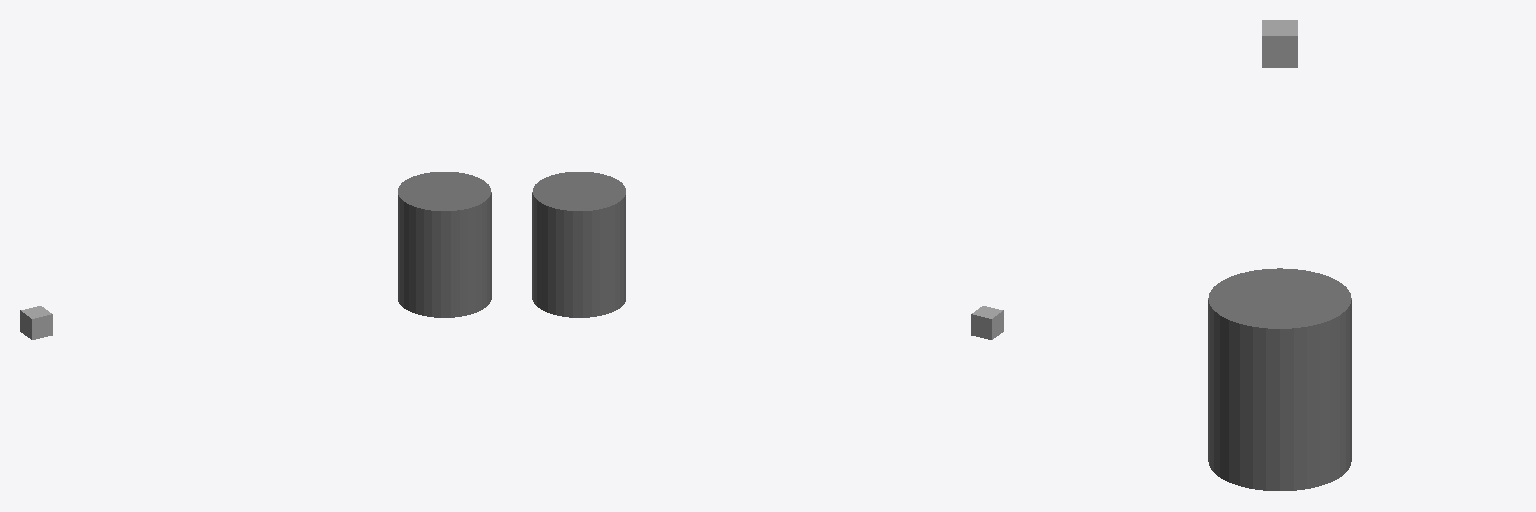
The robot description file, URDF, robot "orca4_ign":
<?xml version='1.0'?>
<robot name="orca4_ign" xmlns:xacro="http://ros.org/wiki/xacro">
    <origin xyz="0 0 0" rpy="0 0 0"/>

    <!-- BlueROV2 thruster reference: http://www.ardusub.com/introduction/features.html -->
    <!-- fluid_density: 1000 -->
    <!-- displaced_mass: 10.05 -->

    <link name="base_link">
      <inertial>
        <origin xyz="0 0 0.011" rpy="0 0 0"/>
        <mass value="10.036"/>
        <inertia ixx="0.09873097998042396" ixy="0.0" ixz="0.0" iyy="0.17756847998042397" iyz="0.0" izz="0.2692441666666667"/>
      </inertial>

      <visual name="base_link_visual">
        <geometry>
          <!-- FIXED: Correct mesh path -->
          <mesh filename="package://auv_core/meshes/bluerov2.dae" scale="0.025 0.025 0.025"/>
        </geometry>
      </visual>

      <!-- Collision volume * fluid_density == displaced mass, used by BuoyancyPlugin -->
      <collision name="base_link_collision">
        <origin xyz="0 0 0.06" rpy="0 0 0"/>
        <geometry>
          <box size="0.457 0.338 0.06506286173008947"/>
        </geometry>
      </collision>

    </link>

    <!-- Hydrodynamics plugin -->
    <gazebo>
    <plugin
        filename="ignition-gazebo-hydrodynamics-system"
        name="ignition::gazebo::systems::Hydrodynamics">
      <link_name>base_link</link_name>
      <water_density>1000</water_density>
      <!-- Added mass: -->
      <xDotU>0</xDotU>
      <yDotV>0</yDotV>
      <zDotW>0</zDotW>
      <kDotP>0</kDotP>
      <mDotQ>0</mDotQ>
      <nDotR>0</nDotR>
      <!-- First order stability derivative: -->
      <xU>0</xU>
      <yV>0</yV>
      <zW>0</zW>
      <kP>0</kP>
      <mQ>0</mQ>
      <nR>0</nR>
      <!-- Second order stability derivative: -->
      <xUabsU>-33.800000000000004</xUabsU>
      <yVabsV>-54.26875</yVabsV>
      <zWabsW>-73.37135</zWabsW>
      <kPabsP>-4.0</kPabsP>
      <mQabsQ>-4.0</mQabsQ>
      <nRabsR>-4.0</nRabsR>
    </plugin>
    </gazebo>

    <!-- ========== THRUSTER LINKS ========== -->
    <link name="thruster1">
      <visual name="thruster_prop_visual">
        <origin xyz="0 0 0" rpy="1.5707963267948966 0 0"/>
        <geometry>
          <mesh filename="package://auv_core/meshes/t200-cw-prop.dae"/>
        </geometry>
      </visual>
      <inertial>
        <mass value="0.002"/>
        <inertia ixx="0.001" ixy="0.0" ixz="0.0" iyy="0.001" iyz="0.0" izz="0.001" />
      </inertial>
    </link>

    <link name="thruster2">
      <visual name="thruster_prop_visual">
        <origin xyz="0 0 0" rpy="1.5707963267948966 0 0"/>
        <geometry>
          <mesh filename="package://auv_core/meshes/t200-ccw-prop.dae"/>
        </geometry>
      </visual>
      <inertial>
        <mass value="0.002"/>
        <inertia ixx="0.001" ixy="0.0" ixz="0.0" iyy="0.001" iyz="0.0" izz="0.001" />
      </inertial>
    </link>

    <link name="thruster3">
      <visual name="thruster_prop_visual">
        <origin xyz="0 0 0" rpy="-1.5707963267948966 0 0"/>
        <geometry>
          <mesh filename="package://auv_core/meshes/t200-ccw-prop.dae"/>
        </geometry>
      </visual>
      <inertial>
        <mass value="0.002"/>
        <inertia ixx="0.001" ixy="0.0" ixz="0.0" iyy="0.001" iyz="0.0" izz="0.001" />
      </inertial>
    </link>

    <link name="thruster4">
      <visual name="thruster_prop_visual">
        <origin xyz="0 0 0" rpy="1.5707963267948966 0 0"/>
        <geometry>
          <mesh filename="package://auv_core/meshes/t200-cw-prop.dae"/>
        </geometry>
      </visual>
      <inertial>
        <mass value="0.002"/>
        <inertia ixx="0.001" ixy="0.0" ixz="0.0" iyy="0.001" iyz="0.0" izz="0.001" />
      </inertial>
    </link>

    <link name="thruster5">
      <visual name="thruster_prop_visual">
        <origin xyz="0 0 0" rpy="-1.5707963267948966 0 1.5707963267948966"/>
        <geometry>
          <mesh filename="package://auv_core/meshes/t200-ccw-prop.dae"/>
        </geometry>
      </visual>
      <inertial>
        <mass value="0.002"/>
        <inertia ixx="0.001" ixy="0.0" ixz="0.0" iyy="0.001" iyz="0.0" izz="0.001" />
      </inertial>
    </link>

    <link name="thruster6">
      <visual name="thruster_prop_visual">
        <origin xyz="0 0 0" rpy="1.5707963267948966 0 1.5707963267948966"/>
        <geometry>
          <mesh filename="package://auv_core/meshes/t200-cw-prop.dae"/>
        </geometry>
      </visual>
      <inertial>
        <mass value="0.002"/>
        <inertia ixx="0.001" ixy="0.0" ixz="0.0" iyy="0.001" iyz="0.0" izz="0.001" />
      </inertial>
    </link>

    <!-- ========== THRUSTER JOINTS ========== -->
    <joint name="thruster1_joint" type="revolute">
      <parent link="base_link" />
      <child link="thruster1" />
      <origin xyz="0.14 -0.092 0" rpy="-1.5707963267948966 1.5707963267948966 -0.7853981633974483"/>
      <axis xyz="0 0 -1" />
      <limit lower="-1e+12" upper="1e+12" effort="-1" velocity="-1"/>
    </joint>

    <joint name="thruster2_joint" type="revolute">
      <parent link="base_link" />
      <child link="thruster2" />
      <origin xyz="0.14 0.092 0" rpy="-1.5707963267948966 1.5707963267948966 -2.356194490192345"/>
      <axis xyz="0 0 -1" />
      <limit lower="-1e+12" upper="1e+12" effort="-1" velocity="-1"/>
    </joint>

    <joint name="thruster3_joint" type="revolute">
      <parent link="base_link" />
      <child link="thruster3" />
      <origin xyz="-0.14 -0.092 0" rpy="-1.5707963267948966 1.5707963267948966 0.7853981633974483"/>
      <axis xyz="0 0 -1" />
      <limit lower="-1e+12" upper="1e+12" effort="-1" velocity="-1"/>
    </joint>

    <joint name="thruster4_joint" type="revolute">
      <parent link="base_link" />
      <child link="thruster4" />
      <origin xyz="-0.14 0.092 0" rpy="-1.5707963267948966 1.5707963267948966 2.356194490192345"/>
      <axis xyz="0 0 -1" />
      <limit lower="-1e+12" upper="1e+12" effort="-1" velocity="-1"/>
    </joint>

    <joint name="thruster5_joint" type="revolute">
      <parent link="base_link" />
      <child link="thruster5" />
      <origin xyz="0 -0.109 0.077" rpy="0 0 0"/>
      <axis xyz="0 0 -1" />
      <limit lower="-1e+12" upper="1e+12" effort="-1" velocity="-1"/>
    </joint>

    <joint name="thruster6_joint" type="revolute">
      <parent link="base_link" />
      <child link="thruster6" />
      <origin xyz="0 0.109 0.077" rpy="0 0 0"/>
      <axis xyz="0 0 -1" />
      <limit lower="-1e+12" upper="1e+12" effort="-1" velocity="-1"/>
    </joint>

    <!-- ========== THRUSTER PLUGINS (FIXED) ========== -->
    <gazebo>
    <plugin
        filename="ignition-gazebo-thruster-system"
        name="ignition::gazebo::systems::Thruster">
      <namespace>orca4_ign</namespace>
      <joint_name>thruster1_joint</joint_name>
      <thrust_coefficient>0.2</thrust_coefficient>
      <topic>/model/orca4_ign/joint/thruster1_joint/cmd_vel</topic>
      <fluid_density>1000</fluid_density>
      <propeller_diameter>0.1</propeller_diameter>
      <velocity_control>true</velocity_control>
      <use_angvel_cmd>true</use_angvel_cmd>
      <max_thrust_cmd>300</max_thrust_cmd>
      <min_thrust_cmd>-300</min_thrust_cmd>
    </plugin>
    </gazebo>

    <gazebo>
    <plugin
        filename="ignition-gazebo-thruster-system"
        name="ignition::gazebo::systems::Thruster">
      <namespace>orca4_ign</namespace>
      <joint_name>thruster2_joint</joint_name>
      <thrust_coefficient>0.2</thrust_coefficient>
      <topic>/model/orca4_ign/joint/thruster2_joint/cmd_vel</topic>
      <fluid_density>1000</fluid_density>
      <propeller_diameter>0.1</propeller_diameter>
      <velocity_control>true</velocity_control>
      <use_angvel_cmd>true</use_angvel_cmd>
      <max_thrust_cmd>300</max_thrust_cmd>
      <min_thrust_cmd>-300</min_thrust_cmd>
    </plugin>
    </gazebo>

    <gazebo>
    <plugin
        filename="ignition-gazebo-thruster-system"
        name="ignition::gazebo::systems::Thruster">
      <namespace>orca4_ign</namespace>
      <joint_name>thruster3_joint</joint_name>
      <thrust_coefficient>-0.2</thrust_coefficient>
      <topic>/model/orca4_ign/joint/thruster3_joint/cmd_vel</topic>
      <fluid_density>1000</fluid_density>
      <propeller_diameter>0.1</propeller_diameter>
      <velocity_control>true</velocity_control>
      <use_angvel_cmd>true</use_angvel_cmd>
      <max_thrust_cmd>300</max_thrust_cmd>
      <min_thrust_cmd>-300</min_thrust_cmd>
    </plugin>
    </gazebo>

    <gazebo>
    <plugin
        filename="ignition-gazebo-thruster-system"
        name="ignition::gazebo::systems::Thruster">
      <namespace>orca4_ign</namespace>
      <joint_name>thruster4_joint</joint_name>
      <thrust_coefficient>-0.2</thrust_coefficient>
      <topic>/model/orca4_ign/joint/thruster4_joint/cmd_vel</topic>
      <fluid_density>1000</fluid_density>
      <propeller_diameter>0.1</propeller_diameter>
      <velocity_control>true</velocity_control>
      <use_angvel_cmd>true</use_angvel_cmd>
      <max_thrust_cmd>300</max_thrust_cmd>
      <min_thrust_cmd>-300</min_thrust_cmd>
    </plugin>
    </gazebo>

    <gazebo>
    <plugin
        filename="ignition-gazebo-thruster-system"
        name="ignition::gazebo::systems::Thruster">
      <namespace>orca4_ign</namespace>
      <joint_name>thruster5_joint</joint_name>
      <thrust_coefficient>0.3</thrust_coefficient>
      <topic>/model/orca4_ign/joint/thruster5_joint/cmd_vel</topic>
      <fluid_density>1000</fluid_density>
      <propeller_diameter>0.1</propeller_diameter>
      <velocity_control>true</velocity_control>
      <use_angvel_cmd>true</use_angvel_cmd>
      <max_thrust_cmd>300</max_thrust_cmd>
      <min_thrust_cmd>-300</min_thrust_cmd>
    </plugin>
    </gazebo>

    <gazebo>
    <plugin
        filename="ignition-gazebo-thruster-system"
        name="ignition::gazebo::systems::Thruster">
      <namespace>orca4_ign</namespace>
      <joint_name>thruster6_joint</joint_name>
      <thrust_coefficient>0.3</thrust_coefficient>
      <topic>/model/orca4_ign/joint/thruster6_joint/cmd_vel</topic>
      <fluid_density>1000</fluid_density>
      <propeller_diameter>0.1</propeller_diameter>
      <velocity_control>true</velocity_control>
      <use_angvel_cmd>true</use_angvel_cmd>
      <max_thrust_cmd>300</max_thrust_cmd>
      <min_thrust_cmd>-300</min_thrust_cmd>
    </plugin>
    </gazebo>

    <!-- ========== IMU LINK ========== -->
    <link name="imu_link">
      <visual name="imu_visual">
        <geometry>
          <box size="0.01 0.01 0.01"/>
        </geometry>
      </visual>
      <collision name="imu_collision">
        <geometry>
          <box size="0.01 0.01 0.01"/>
        </geometry>
      </collision>
      <inertial>
        <origin xyz="0 0 0" rpy="0 0 0"/>
        <mass value="0.001"/>
        <inertia ixx="0.000001" ixy="0" ixz="0" iyy="0.000001" iyz="0" izz="0.000001"/>
      </inertial>
    </link>

    <joint name="imu_joint" type="fixed">
      <parent link="base_link"/>
      <child link="imu_link"/>
      <origin xyz="0 0 0.01" rpy="0 0 0"/>
    </joint>

    <gazebo reference="imu_link">
      <sensor name="imu_sensor" type="imu">
        <always_on>true</always_on>
        <update_rate>100</update_rate>
        <visualize>true</visualize>
        <topic>/imu/data</topic>
        <plugin filename="ignition-gazebo-imu-system" name="ignition::gazebo::systems::Imu">
        </plugin>
        <imu>
          <angular_velocity>
            <x>
              <noise type="gaussian">
                <mean>0.0</mean>
                <stddev>2e-4</stddev>
                <bias_mean>0.0000075</bias_mean>
                <bias_stddev>0.0000008</bias_stddev>
              </noise>
            </x>
            <y>
              <noise type="gaussian">
                <mean>0.0</mean>
                <stddev>2e-4</stddev>
                <bias_mean>0.0000075</bias_mean>
                <bias_stddev>0.0000008</bias_stddev>
              </noise>
            </y>
            <z>
              <noise type="gaussian">
                <mean>0.0</mean>
                <stddev>2e-4</stddev>
                <bias_mean>0.0000075</bias_mean>
                <bias_stddev>0.0000008</bias_stddev>
              </noise>
            </z>
          </angular_velocity>
          <linear_acceleration>
            <x>
              <noise type="gaussian">
                <mean>0.0</mean>
                <stddev>1.7e-2</stddev>
                <bias_mean>0.1</bias_mean>
                <bias_stddev>0.001</bias_stddev>
              </noise>
            </x>
            <y>
              <noise type="gaussian">
                <mean>0.0</mean>
                <stddev>1.7e-2</stddev>
                <bias_mean>0.1</bias_mean>
                <bias_stddev>0.001</bias_stddev>
              </noise>
            </y>
            <z>
              <noise type="gaussian">
                <mean>0.0</mean>
                <stddev>1.7e-2</stddev>
                <bias_mean>0.1</bias_mean>
                <bias_stddev>0.001</bias_stddev>
              </noise>
            </z>
          </linear_acceleration>
        </imu>
      </sensor>
    </gazebo>

    <!-- ========== FORWARD CAMERA (For Gate Detection) ========== -->
    <link name="forward_camera_link">
      <visual name="forward_camera_visual">
        <geometry>
          <cylinder length="0.05" radius="0.02"/>
        </geometry>
        <material name="camera_grey">
          <color rgba="0.5 0.5 0.5 0.8"/>
        </material>
      </visual>
      <inertial>
        <mass value="0.001"/>
        <inertia ixx="0.001" ixy="0.0" ixz="0.0" iyy="0.001" iyz="0.0" izz="0.001"/>
      </inertial>
    </link>

    <joint name="forward_camera_joint" type="fixed">
      <parent link="base_link"/>
      <child link="forward_camera_link"/>
      <origin xyz="0.2 0 0" rpy="0 0 0"/>
    </joint>

    <gazebo reference="forward_camera_link">
      <sensor name="forward_camera" type="camera">
        <camera>
          <horizontal_fov>1.4</horizontal_fov>
          <image>
            <width>800</width>
            <height>600</height>
          </image>
          <clip>
            <near>0.2</near>
            <far>10</far>
          </clip>
        </camera>
        <always_on>1</always_on>
        <update_rate>30</update_rate>
        <visualize>true</visualize>
        <topic>camera_forward</topic>
      </sensor>
    </gazebo>

    <!-- ========== ODOMETRY PUBLISHER ========== -->
    <gazebo>
      <plugin
        filename="ignition-gazebo-odometry-publisher-system"
        name="ignition::gazebo::systems::OdometryPublisher">
        <odom_publish_frequency>30</odom_publish_frequency>
        <odom_frame>odom</odom_frame>
        <robot_base_frame>base_link</robot_base_frame>
      </plugin>
    </gazebo>

</robot>

--- Render facts (derived) ---
The picture shows the robot from 3 angles, left to right: view 1: azimuth 30°, elevation 25°; view 2: azimuth 150°, elevation 25°; view 3: azimuth 270°, elevation 25°; orthographic projection.
Model orca4_ign with 9 links and 8 joints (6 revolute, 2 fixed), rooted at base_link, posed every joint at zero.
Visible links, largest first — view 1: forward_camera_link, imu_link; view 2: forward_camera_link, imu_link; view 3: forward_camera_link, imu_link.
Boxes of the visible links, x1,y1,x2,y2 form: forward_camera_link: (398, 172, 491, 317); imu_link: (20, 306, 52, 339); forward_camera_link: (532, 172, 625, 317); imu_link: (971, 306, 1003, 339); forward_camera_link: (1208, 268, 1351, 490); imu_link: (1262, 20, 1297, 67).
Bounding box of the posed robot: 0.225 × 0.04 × 0.05 m (x, y, z).
0 mesh visuals loaded from 3 distinct referenced files (none loaded); not drawn: 7 (file found but could not be loaded).